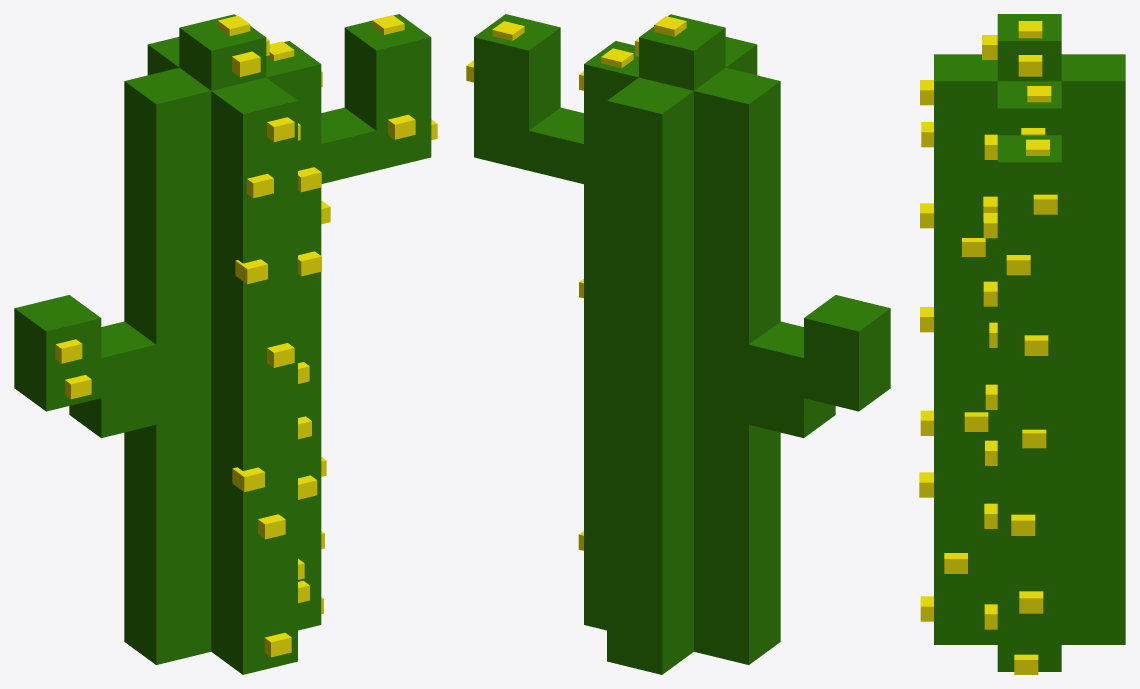
The model's file is cactus_2.fbx.
3 renders of one model, left to right at view 1: azimuth 30°, elevation 25°; view 2: azimuth 150°, elevation 25°; view 3: azimuth 270°, elevation 25°, orthographic.
Parts seen in each view (by area): view 1: Torus.009; view 2: Torus.009; view 3: Torus.009.
Part boxes in pixels (x1,y1,x2,y2): Torus.009: [14, 14, 437, 674]; Torus.009: [466, 14, 890, 674]; Torus.009: [919, 14, 1125, 674].
Bounding box in the file's own units: 381 × 560 × 171.
